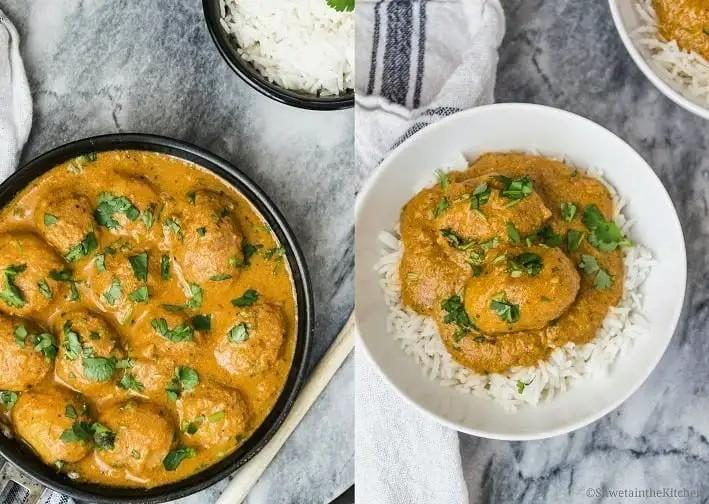DumAloo: (0, 152, 299, 486), (401, 150, 626, 371)
WhiteRice: (372, 154, 658, 415), (218, 0, 356, 98)
